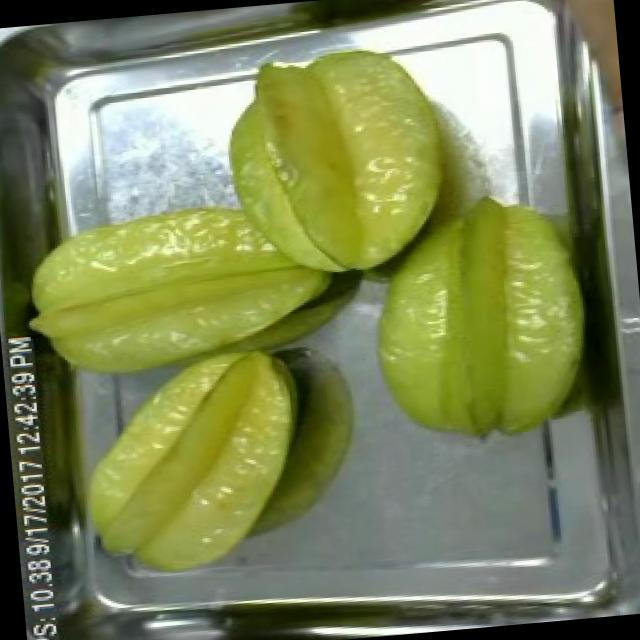fruit: (9, 182, 360, 402), (352, 178, 610, 460), (212, 30, 468, 298), (64, 332, 320, 592)
